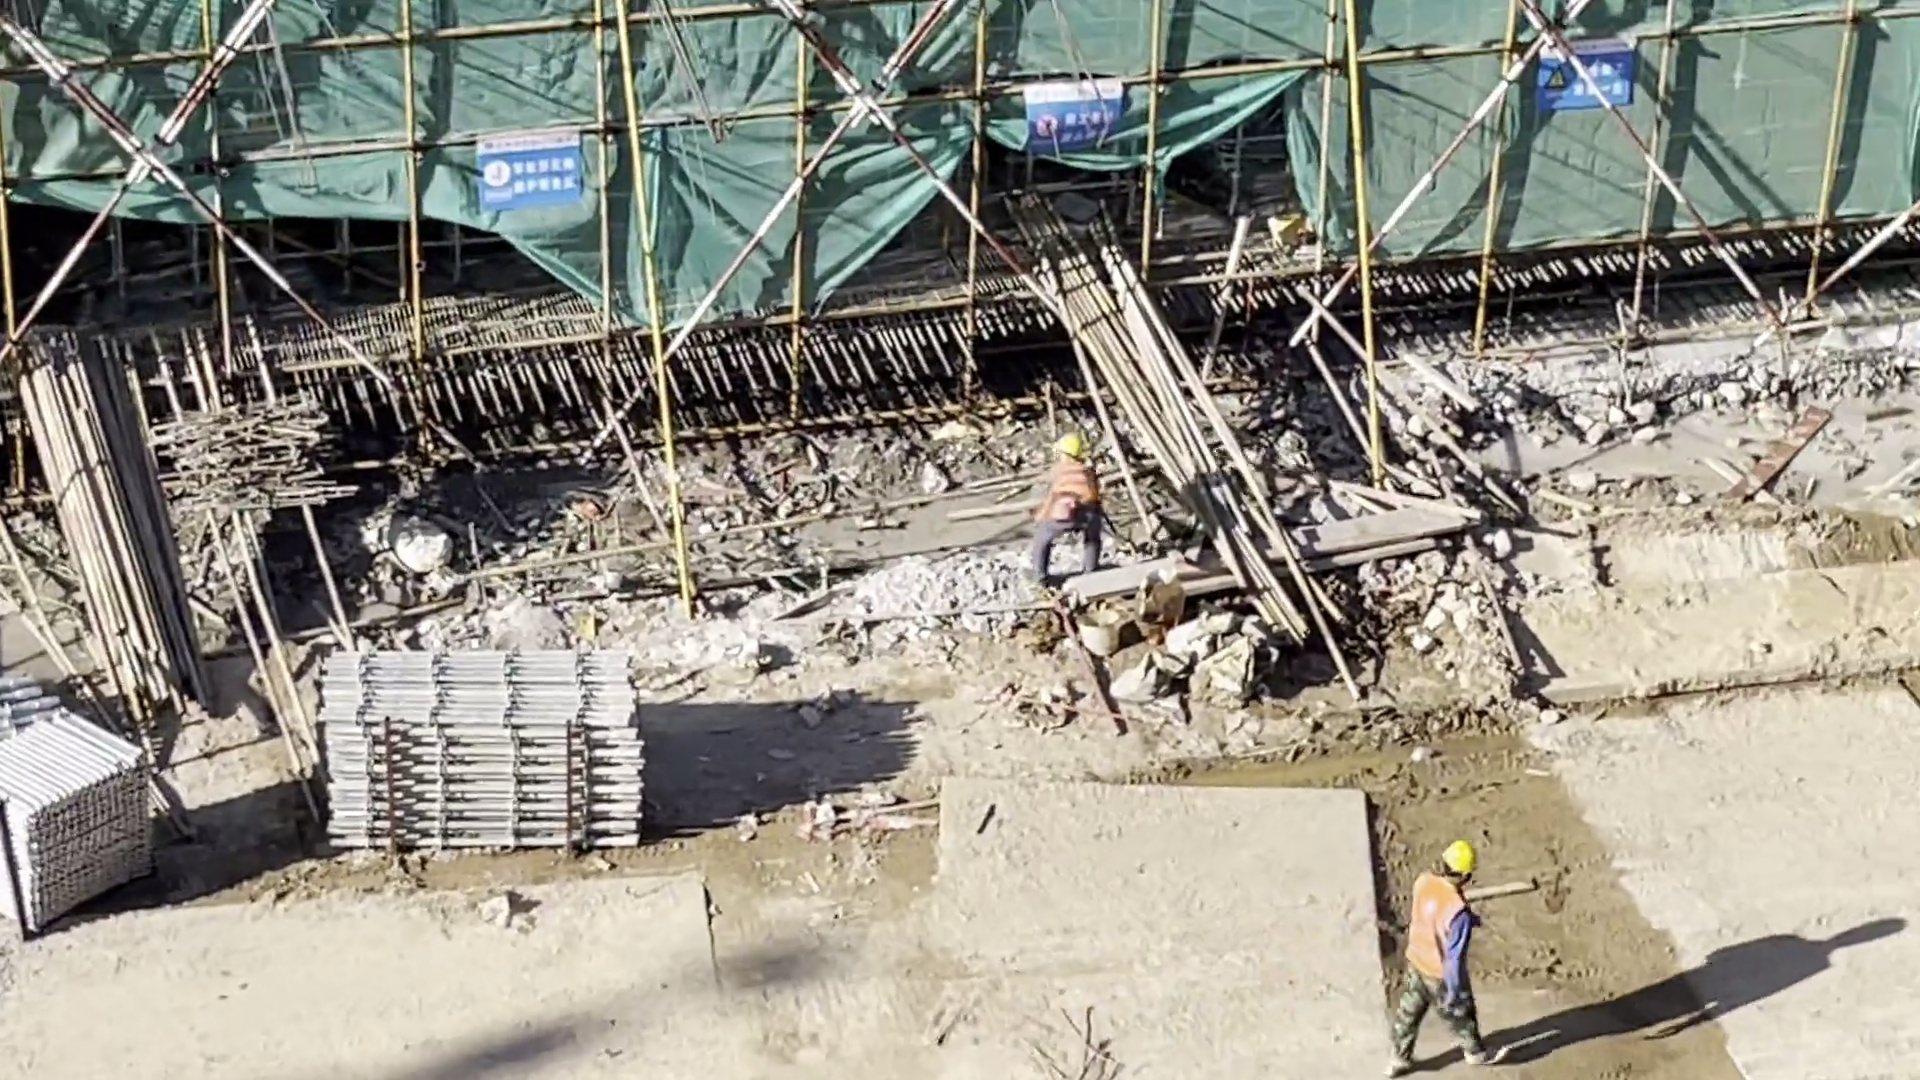helmet: (1429, 816, 1491, 883), (1044, 424, 1093, 471)
person: (1380, 816, 1526, 1080), (1019, 416, 1119, 604)
scaffold: (307, 621, 680, 880), (1, 704, 171, 948)
slogan: (1517, 34, 1681, 116), (472, 127, 594, 221), (1021, 79, 1141, 171)
vest: (1404, 864, 1473, 982), (1038, 457, 1097, 516)
